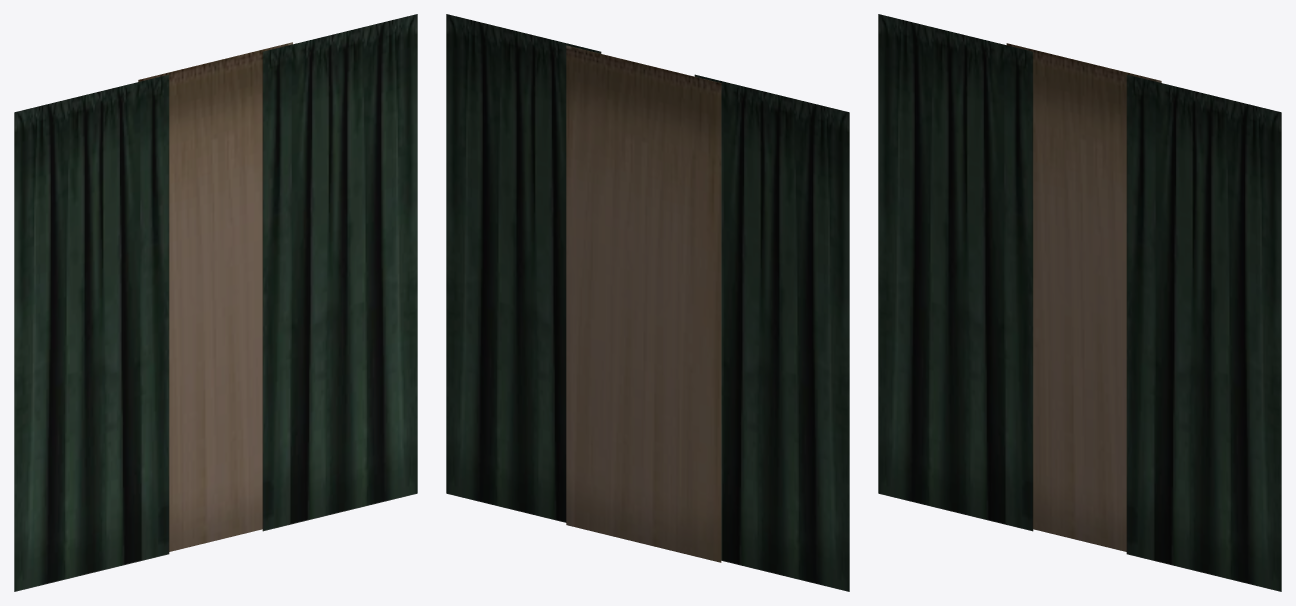
File: [PSX] Motel Curtains.fbx
3 views of the same model, side by side, from view 1: azimuth 30°, elevation 25°; view 2: azimuth 150°, elevation 25°; view 3: azimuth 330°, elevation 25° (orthographic).
Visible parts, largest first — view 1: Curtains; view 2: Curtains; view 3: Curtains.
Boxes of the visible parts, x1,y1,x2,y2 form: Curtains: [14, 14, 417, 591]; Curtains: [446, 14, 849, 591]; Curtains: [878, 14, 1281, 591].
Bounding box in the file's own units: 211 × 240 × 2.1.
1 material, 1 textured.
